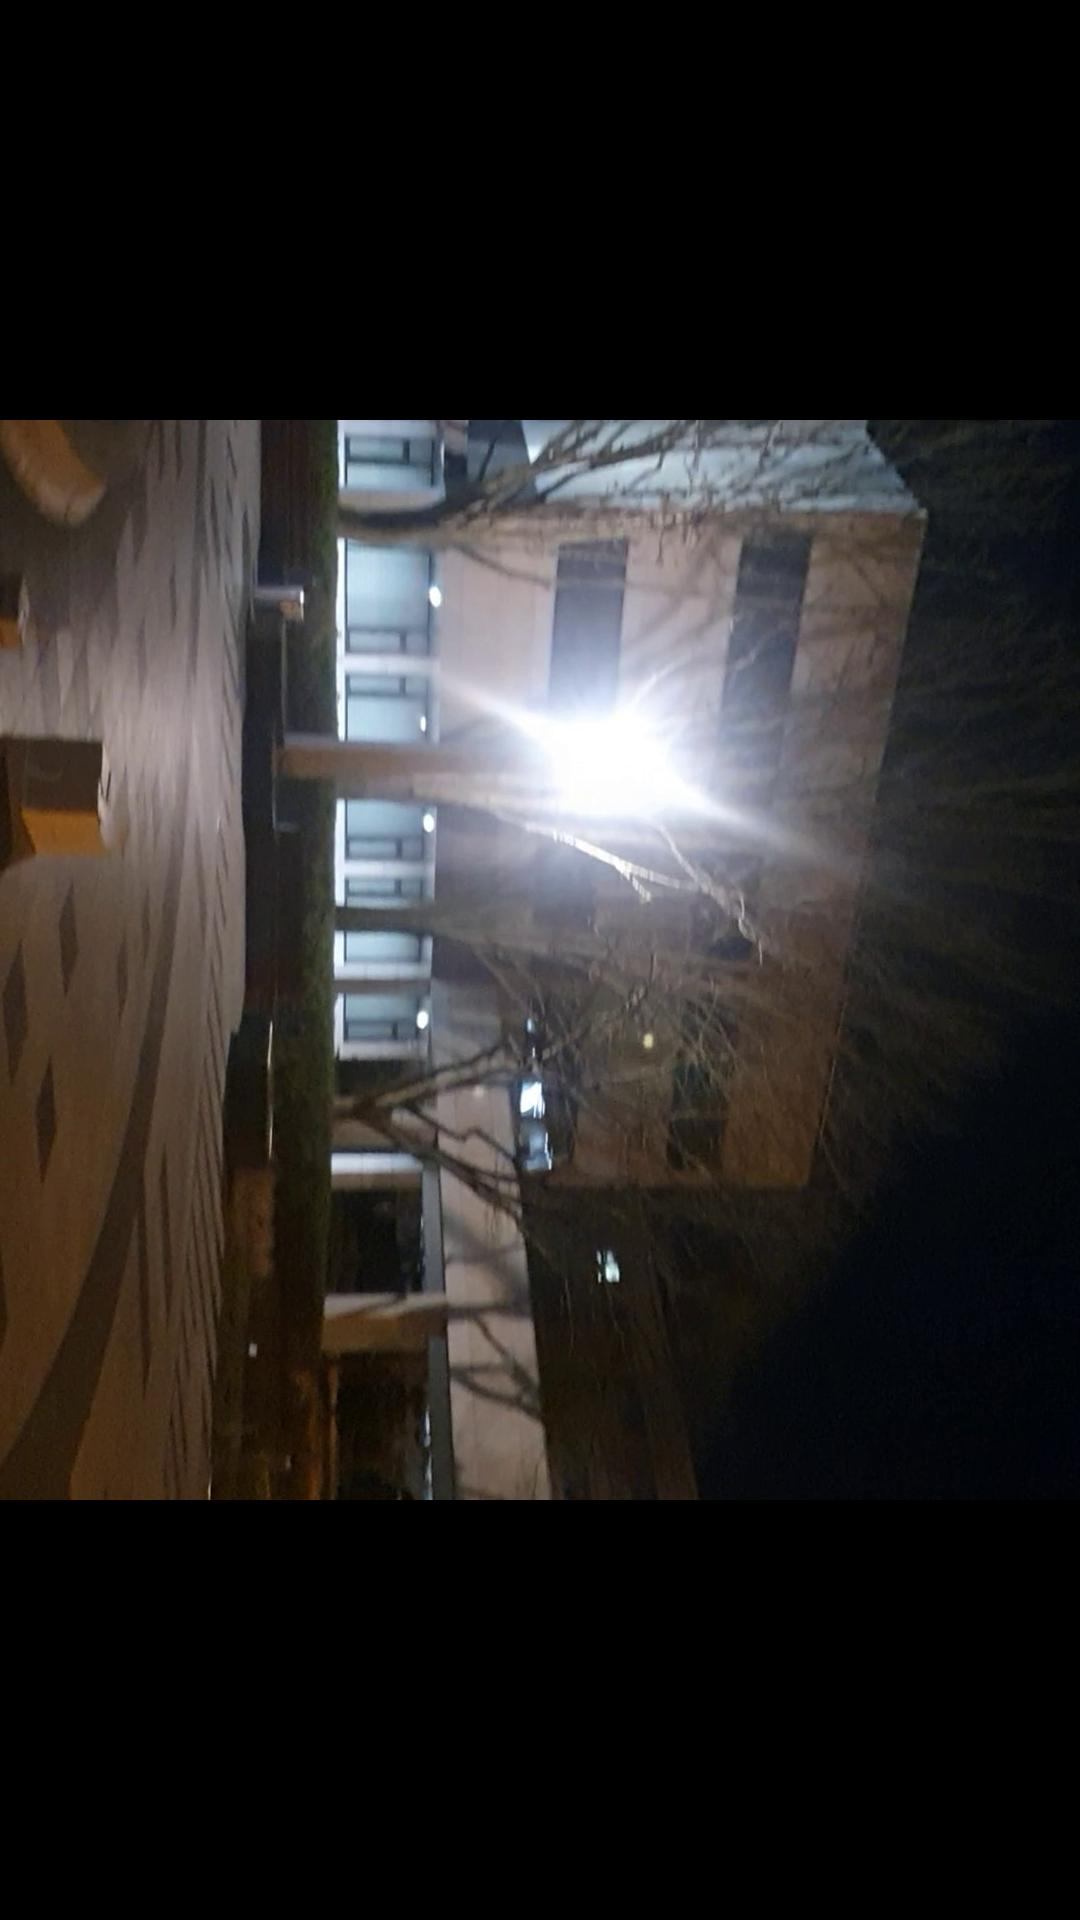Box: (11, 727, 120, 868), (0, 568, 40, 659)
